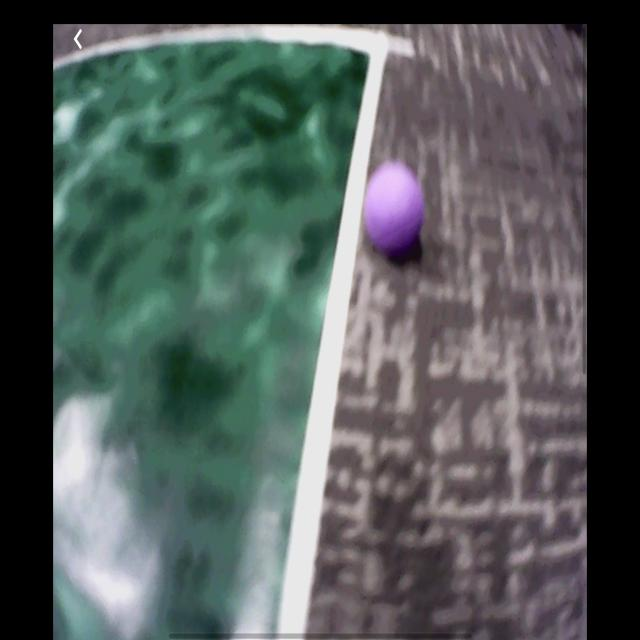ball: (364, 159, 426, 262)
